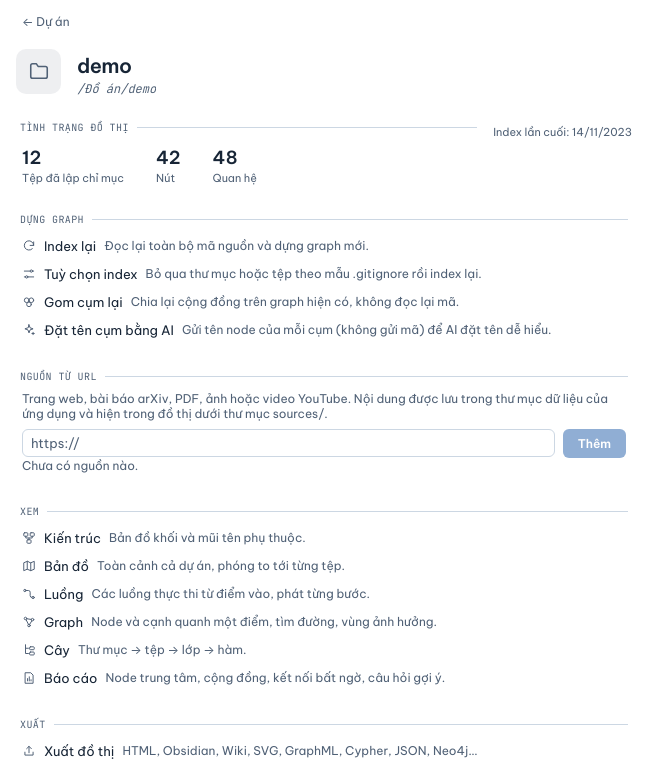
Test case: ProjectOverviewScreen › gom cụm lại hiện số cụm
What coordinates should you click on to do the following:
click the button "Gom cụm lại"
I would click on:
 (324, 304)
Its box is [16, 290, 632, 318].
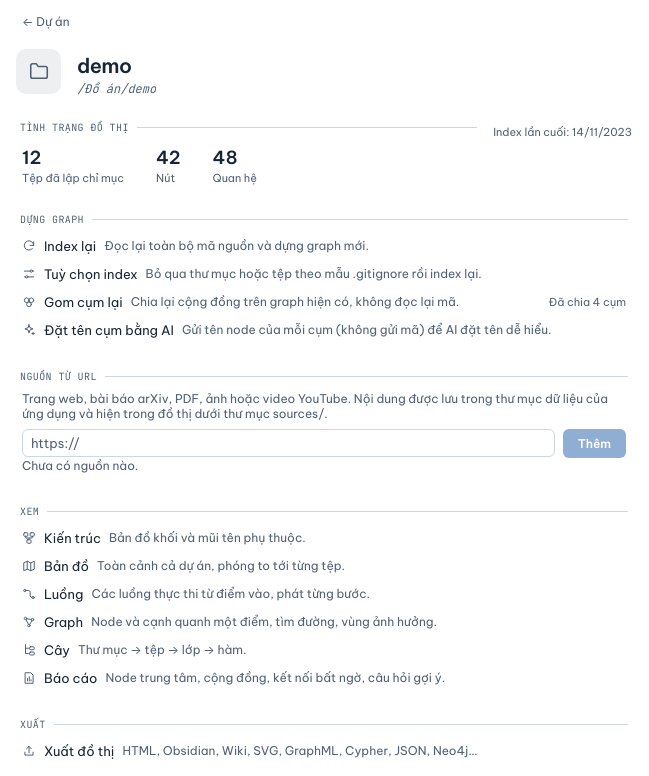
Expected: the text "Đã chia 4 cụm" is shown, [548, 295, 626, 309]
